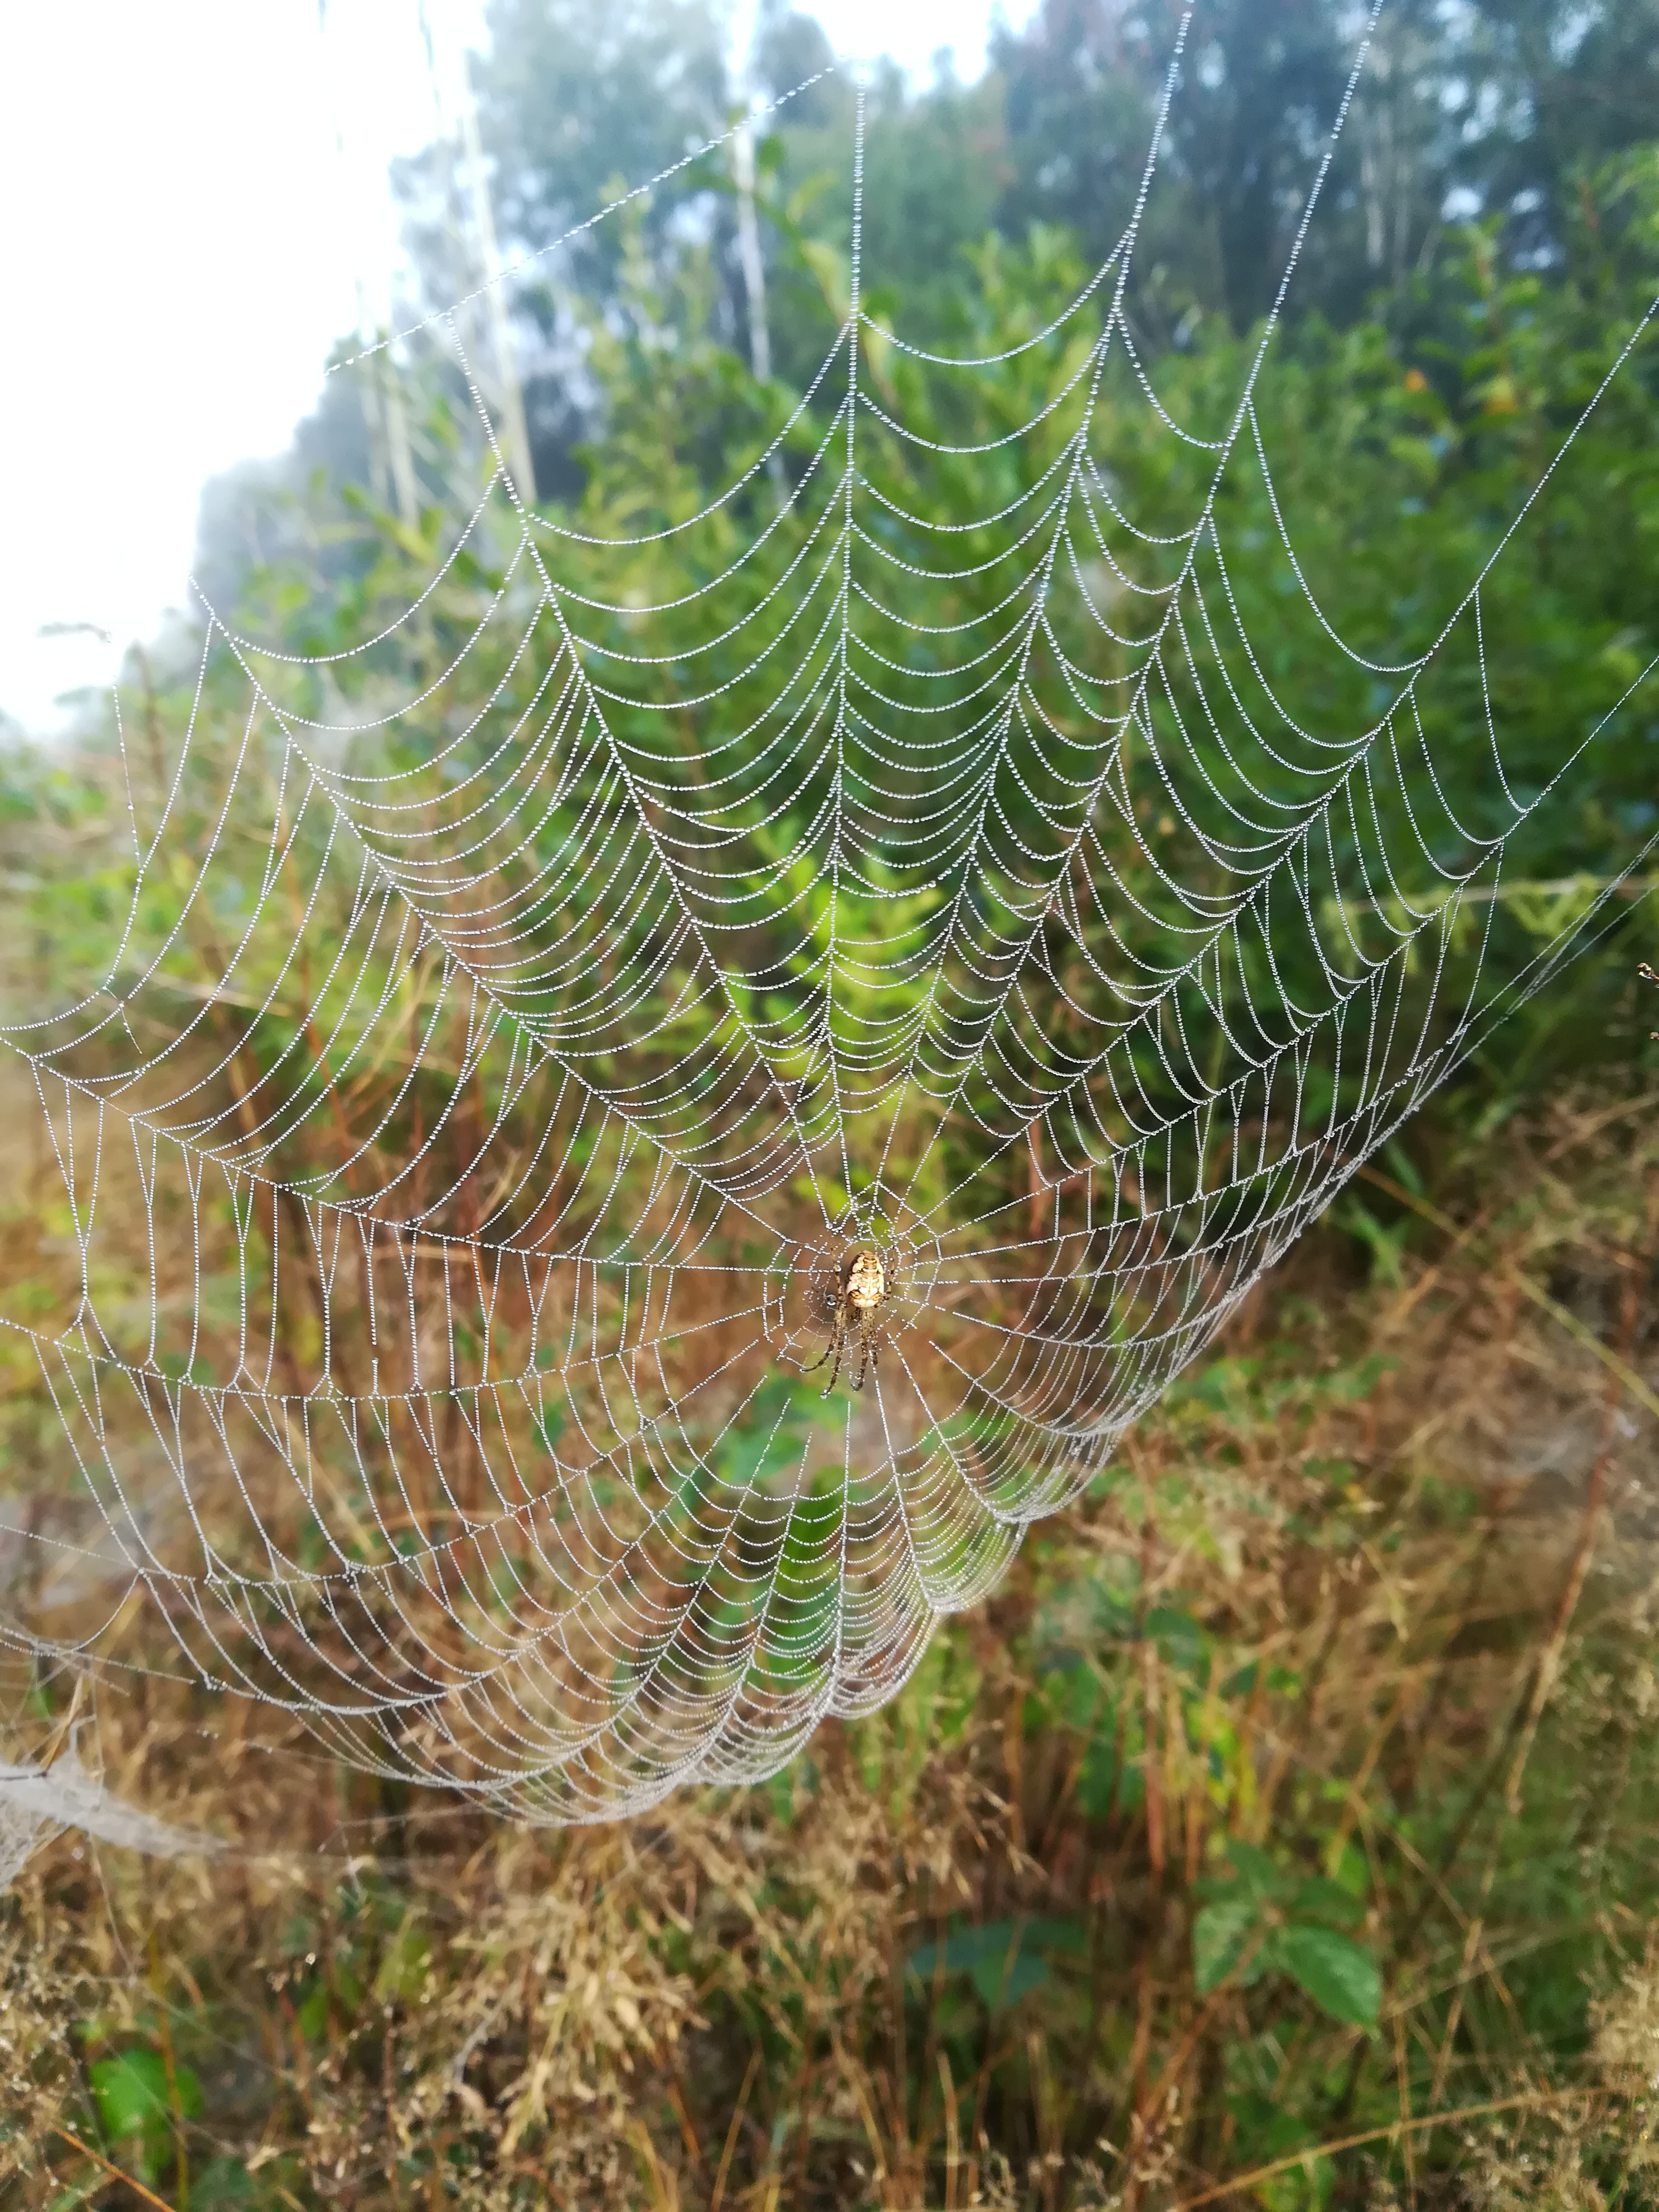spider: (775, 1214, 936, 1397)
